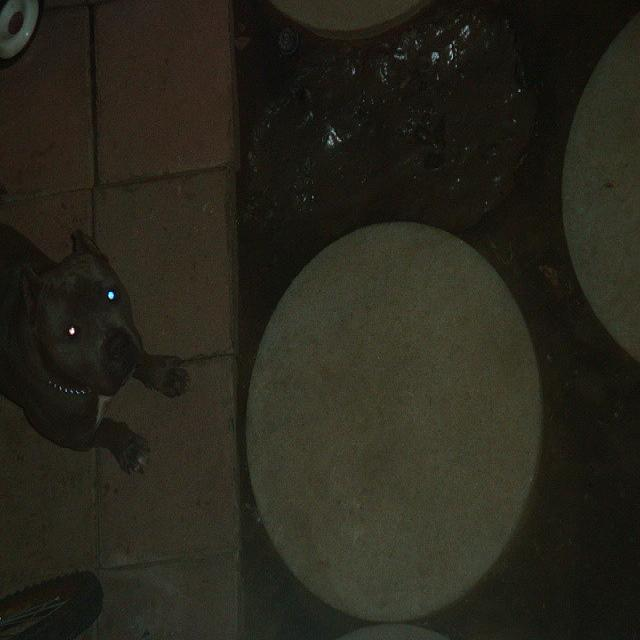Dog: (12, 196, 151, 480)
